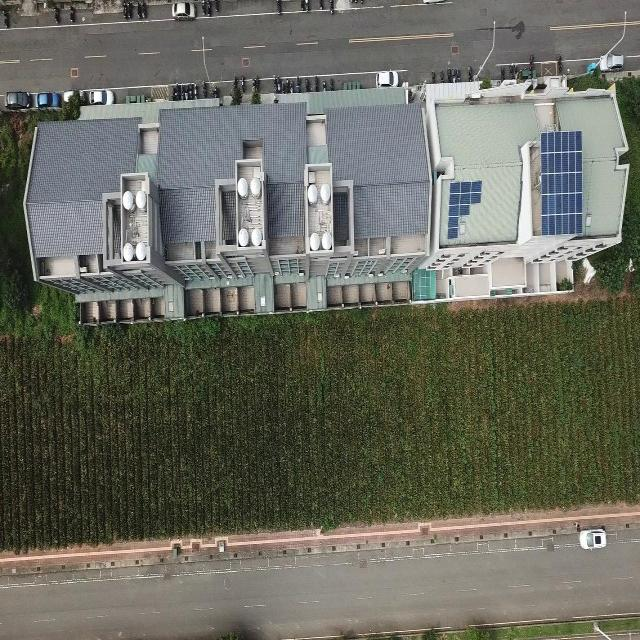bike: (1, 8, 12, 28), (51, 7, 61, 24), (556, 53, 564, 74), (527, 51, 536, 68), (429, 69, 438, 86), (273, 1, 283, 16), (68, 8, 76, 26), (239, 76, 248, 92), (199, 80, 207, 96), (313, 74, 320, 91), (329, 0, 336, 16), (231, 73, 238, 89), (468, 63, 474, 81), (499, 63, 505, 80), (295, 76, 301, 92), (317, 2, 325, 11)
car: (579, 528, 606, 550), (599, 54, 627, 72), (3, 91, 30, 109), (89, 88, 117, 105), (172, 0, 196, 19), (34, 90, 59, 108), (375, 69, 400, 85), (62, 92, 86, 104)
